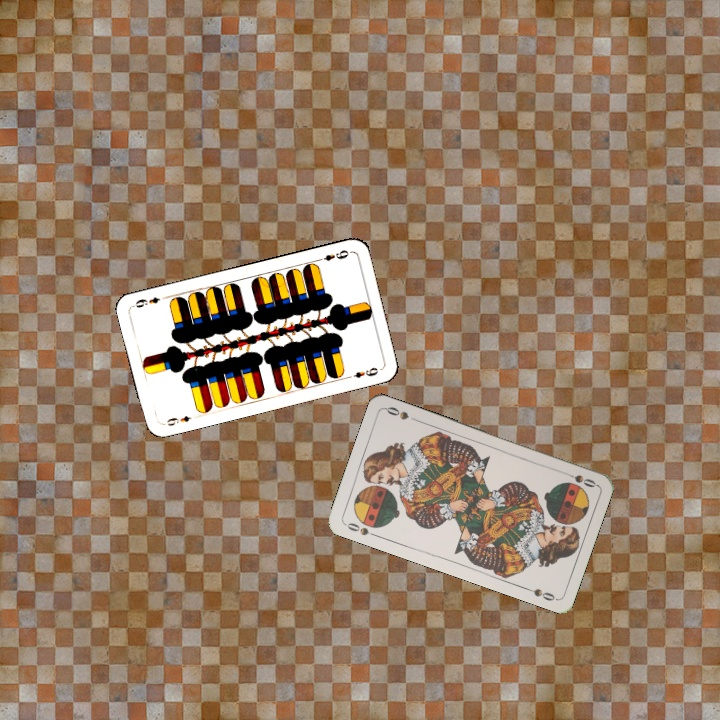E9: (313, 246, 351, 264), (159, 412, 194, 429)
SO: (559, 468, 599, 490), (341, 519, 380, 539)
